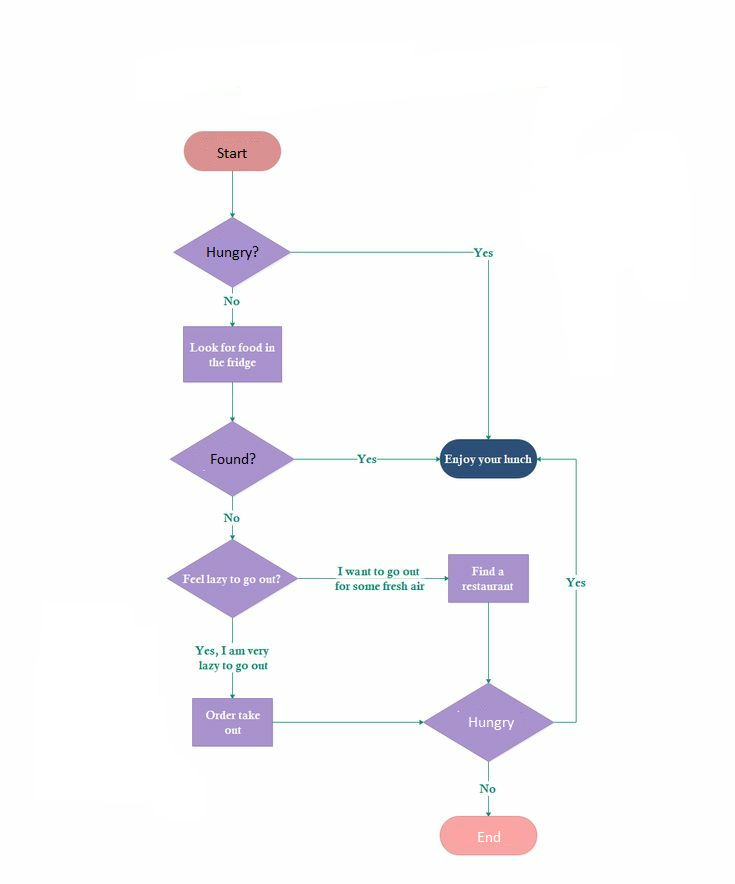arrow: (292, 247, 495, 440), (540, 455, 583, 727), (275, 719, 432, 729), (297, 573, 451, 583), (294, 454, 444, 464), (225, 616, 237, 700), (483, 604, 495, 684), (225, 488, 240, 540), (225, 167, 240, 217), (483, 765, 496, 816), (225, 288, 241, 328), (227, 383, 240, 423)
decision: (165, 541, 297, 619), (428, 684, 552, 759), (169, 421, 292, 496), (175, 217, 291, 287)
process: (180, 325, 284, 381), (191, 695, 276, 747), (446, 552, 533, 600)
terminator: (183, 132, 283, 173), (438, 439, 538, 480), (440, 815, 539, 856)
text: (187, 339, 287, 372), (331, 564, 429, 597), (191, 643, 273, 676), (453, 562, 524, 592), (201, 709, 265, 737), (443, 450, 532, 469), (177, 573, 284, 588), (204, 243, 263, 264), (464, 712, 519, 733), (205, 451, 259, 469), (215, 145, 253, 163), (473, 828, 505, 845), (564, 573, 592, 592), (353, 451, 383, 467), (472, 245, 499, 261), (220, 295, 247, 311), (477, 781, 501, 797), (221, 512, 244, 525)
